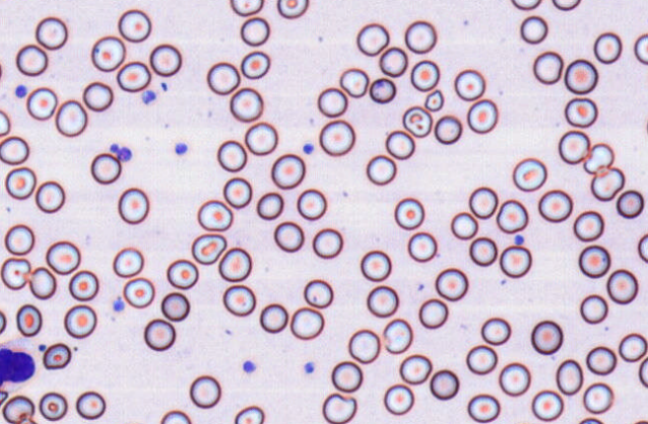MONO: (0, 339, 40, 390)
PLT: (116, 146, 133, 163), (141, 90, 156, 106), (14, 83, 28, 98), (243, 360, 258, 374), (174, 142, 189, 155), (113, 296, 126, 311), (302, 141, 315, 155), (303, 361, 316, 375), (513, 233, 526, 246), (109, 142, 120, 152)
RBC: (319, 119, 355, 156), (90, 35, 125, 71), (564, 58, 598, 94), (271, 153, 305, 189), (55, 99, 87, 137), (590, 166, 624, 201), (229, 87, 263, 122), (45, 240, 80, 274), (512, 157, 547, 191), (117, 187, 149, 224), (63, 304, 97, 338), (290, 306, 324, 340), (117, 8, 151, 42), (434, 267, 468, 301), (206, 61, 240, 95), (606, 268, 638, 304), (34, 16, 67, 50), (356, 22, 389, 56), (244, 121, 277, 155), (218, 247, 251, 281), (530, 320, 563, 354), (538, 189, 572, 222), (348, 328, 380, 363), (197, 199, 232, 231), (466, 98, 498, 133), (498, 362, 530, 396), (189, 374, 221, 408), (558, 130, 590, 164), (496, 199, 528, 233), (578, 244, 610, 278), (191, 233, 226, 264), (116, 61, 151, 92), (143, 318, 175, 351), (4, 166, 36, 199), (15, 43, 47, 76), (404, 20, 436, 53), (222, 284, 255, 316), (499, 245, 531, 278), (149, 43, 181, 76), (532, 50, 563, 84), (26, 86, 57, 120), (555, 358, 583, 395), (531, 389, 563, 421), (366, 285, 398, 317), (0, 257, 31, 290), (399, 353, 432, 384), (454, 68, 485, 101), (216, 139, 247, 172), (564, 97, 598, 127), (383, 383, 414, 415), (331, 360, 362, 392), (90, 152, 121, 184), (166, 258, 198, 289), (360, 249, 391, 281), (35, 180, 65, 213), (273, 221, 304, 252), (123, 277, 154, 308), (312, 227, 343, 258), (573, 210, 604, 241), (465, 344, 497, 374), (4, 223, 34, 255), (402, 105, 432, 137), (468, 186, 498, 218), (68, 269, 98, 301), (296, 188, 326, 220), (394, 197, 424, 229), (467, 393, 500, 422), (593, 31, 622, 64), (429, 369, 459, 400), (366, 154, 396, 185), (583, 382, 613, 413), (585, 345, 616, 375), (407, 231, 437, 262), (82, 81, 113, 111), (112, 247, 143, 277), (410, 59, 439, 91), (28, 266, 56, 299), (2, 395, 35, 423), (303, 278, 333, 308), (240, 16, 270, 46), (385, 129, 415, 159), (317, 87, 347, 117), (418, 298, 448, 328), (339, 67, 369, 97), (378, 46, 407, 77), (223, 177, 252, 208), (259, 302, 288, 333), (0, 135, 29, 165), (160, 291, 189, 321), (38, 391, 67, 421), (618, 332, 647, 362), (75, 390, 105, 419), (480, 316, 510, 345), (579, 294, 608, 324), (240, 50, 270, 79), (16, 303, 42, 336), (434, 114, 462, 144), (469, 236, 497, 266), (520, 15, 548, 44), (616, 189, 644, 218), (450, 211, 478, 239), (256, 191, 283, 220), (369, 77, 396, 103), (276, 0, 308, 18), (229, 0, 263, 16), (234, 405, 264, 423), (159, 409, 191, 424), (634, 32, 648, 64), (638, 356, 648, 387), (638, 232, 648, 263), (510, 0, 541, 10), (551, 0, 581, 10), (0, 109, 10, 136), (577, 417, 604, 424), (0, 309, 7, 334), (0, 390, 8, 406), (511, 421, 540, 424), (121, 421, 146, 424), (632, 419, 647, 424), (645, 113, 648, 138), (0, 56, 2, 83)
Schistocyte: (384, 317, 412, 354), (322, 394, 357, 423), (583, 143, 615, 173), (42, 343, 72, 370), (423, 89, 445, 112)
